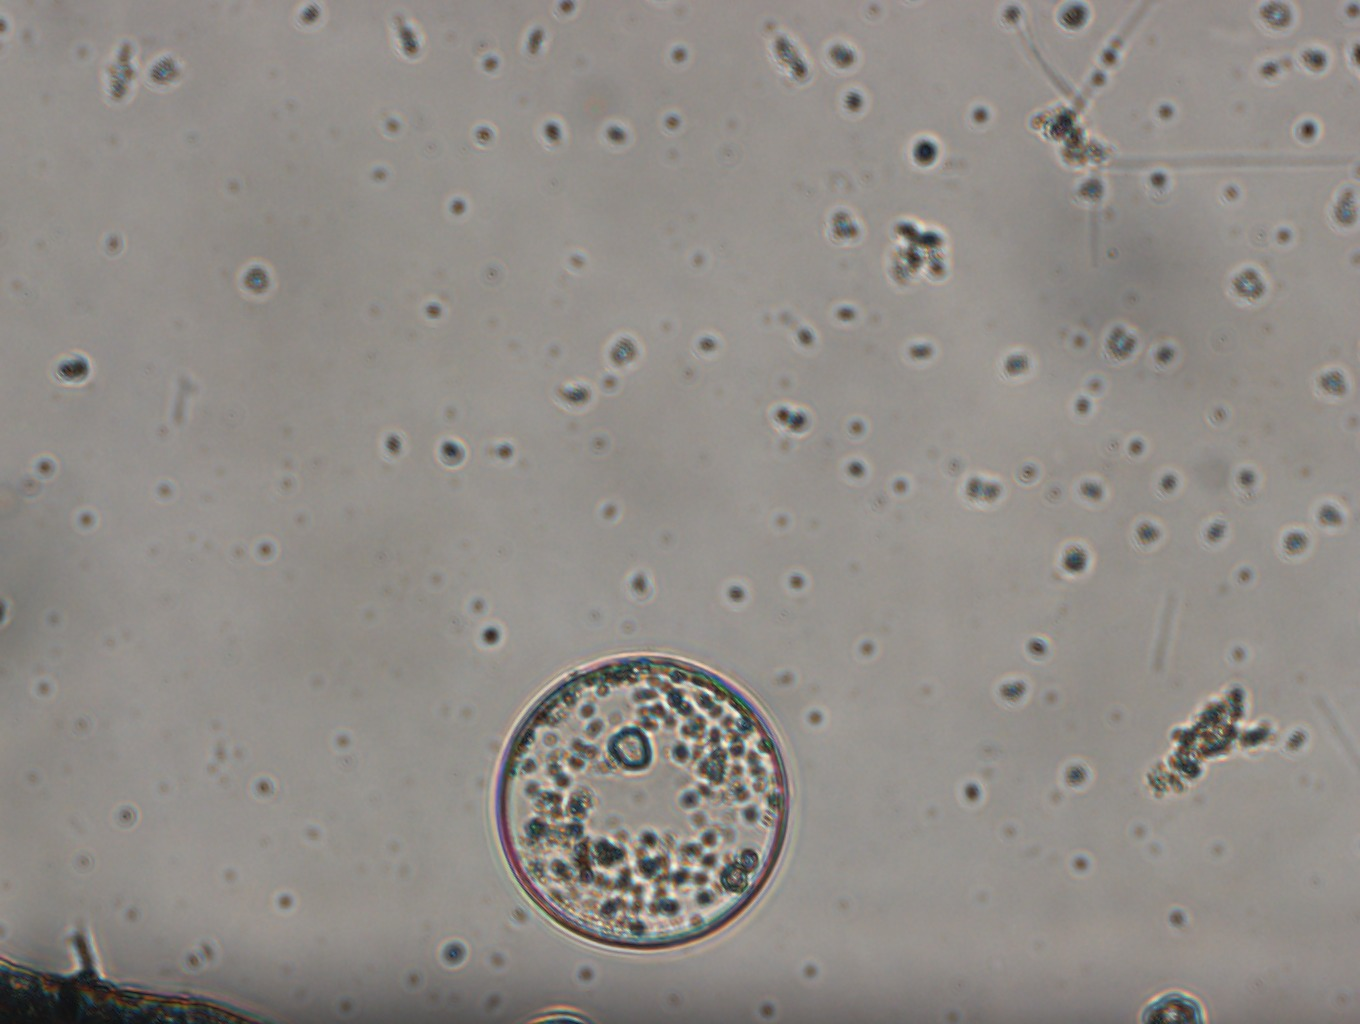coscinodiscus: (486, 650, 794, 959)
